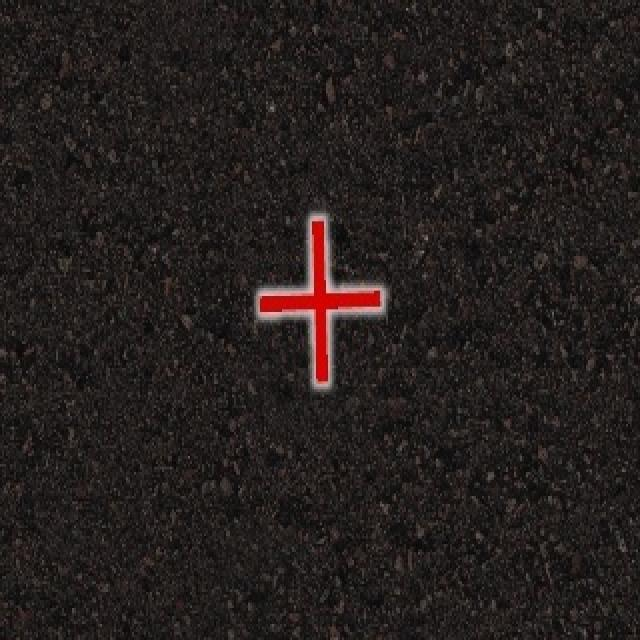x_marker: (259, 217, 381, 383)
